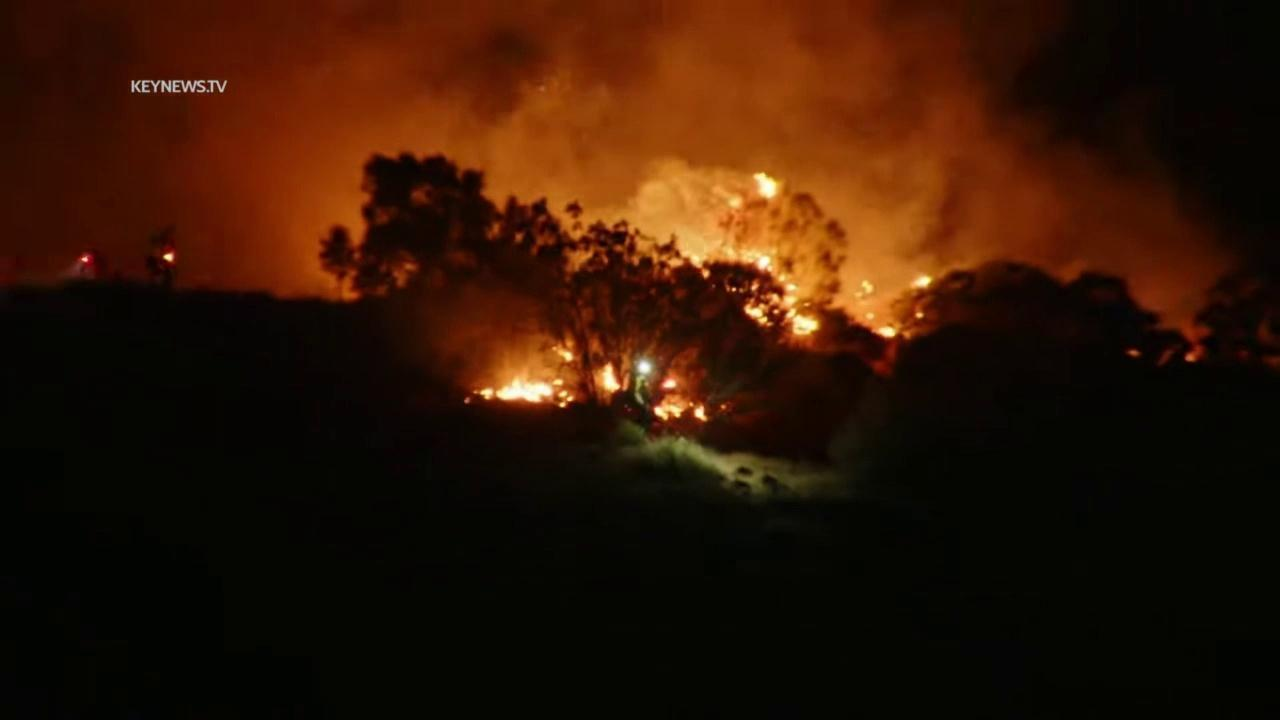fire: (738, 284, 820, 336), (457, 375, 577, 409), (689, 252, 776, 280), (652, 398, 710, 424), (595, 357, 623, 396), (751, 170, 779, 199), (550, 343, 575, 363), (908, 275, 933, 292), (868, 326, 897, 339), (659, 375, 677, 391), (859, 279, 874, 297), (863, 311, 876, 321), (912, 312, 927, 320)
smoke: (0, 0, 1280, 371)
